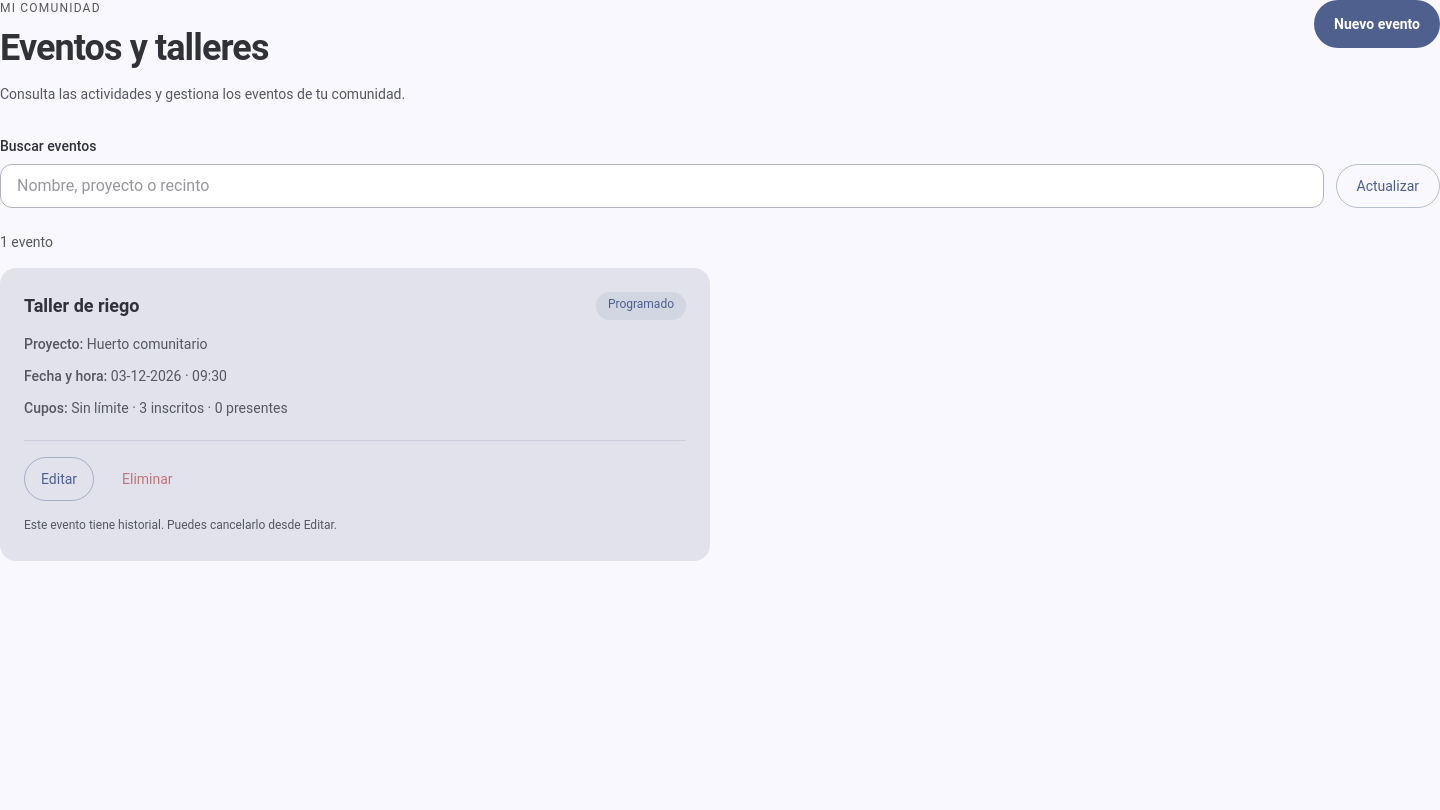
Test: gestión de eventos con HTTP y React Query › bloquea eliminación con historial y valida el cupo existente
The width and height of the screenshot is (1440, 810).
Expected: the button named "Eliminar Taller de riego" is disabled, [106,457,189,501]
Click the button named "Editar Taller de riego": (59, 479) [24,457,94,501]
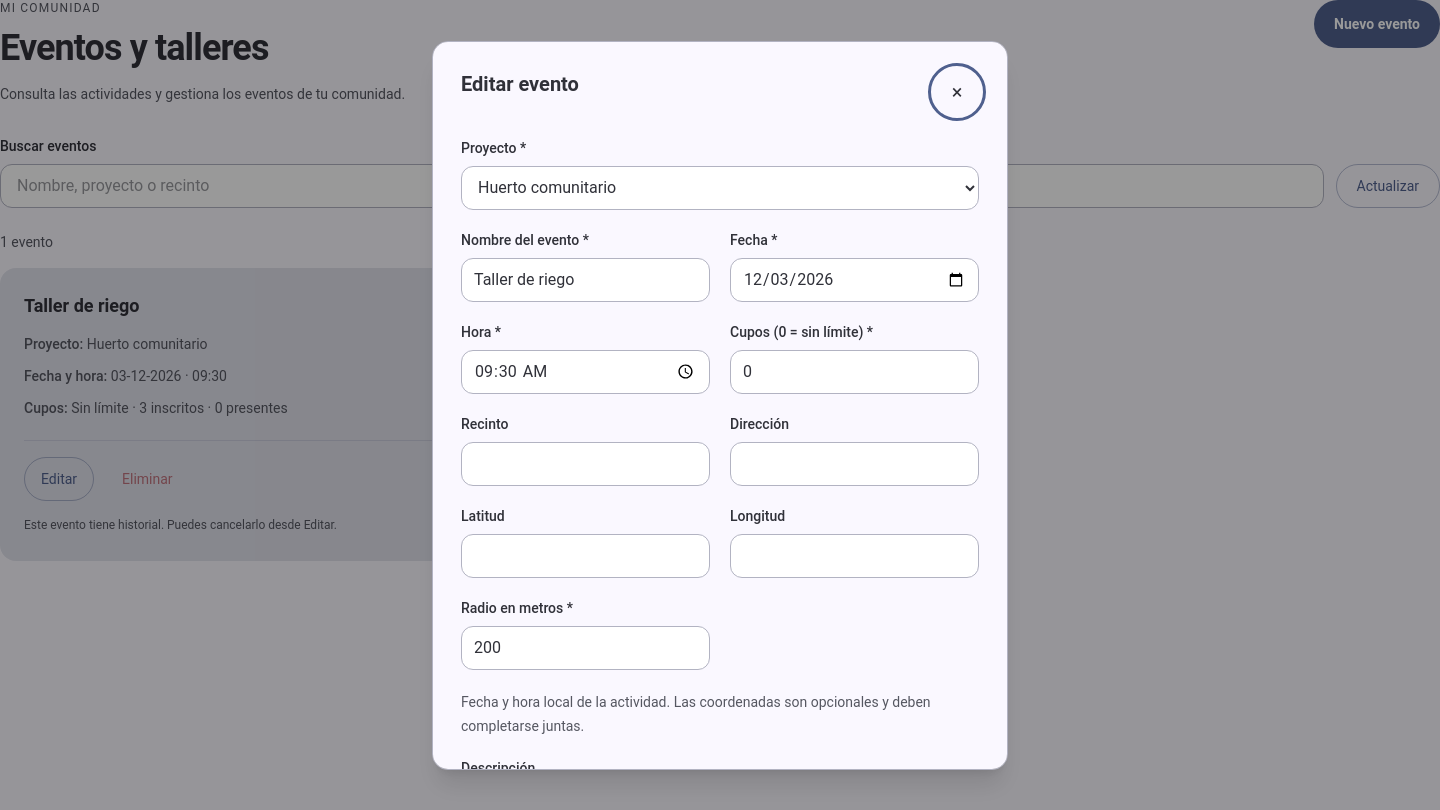
Replace the text in the number field labelled "Cupos (0 = sin límite) *" with "2": (854, 372) [730,350,979,394]
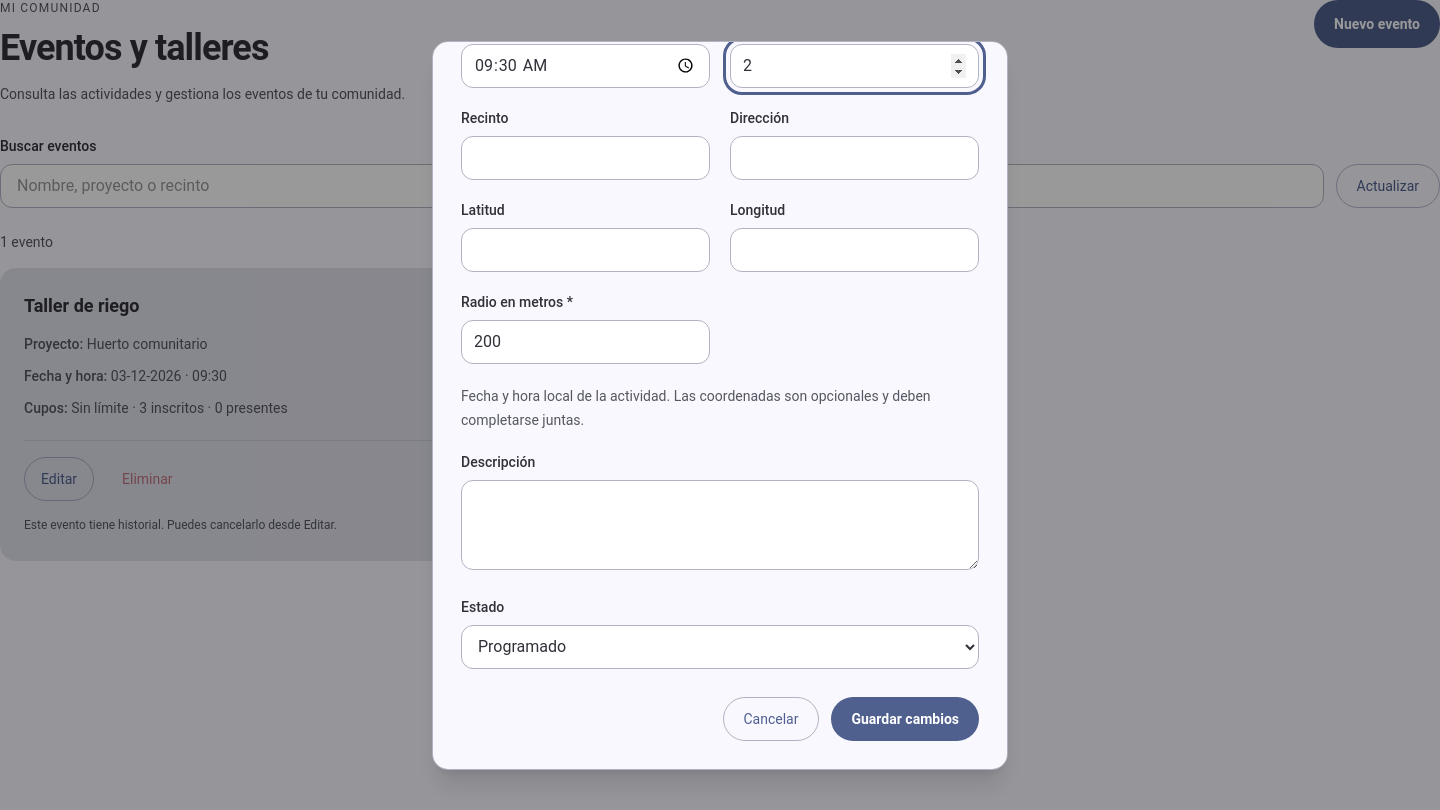
Click the button "Guardar cambios": (905, 718) [832,696,979,740]
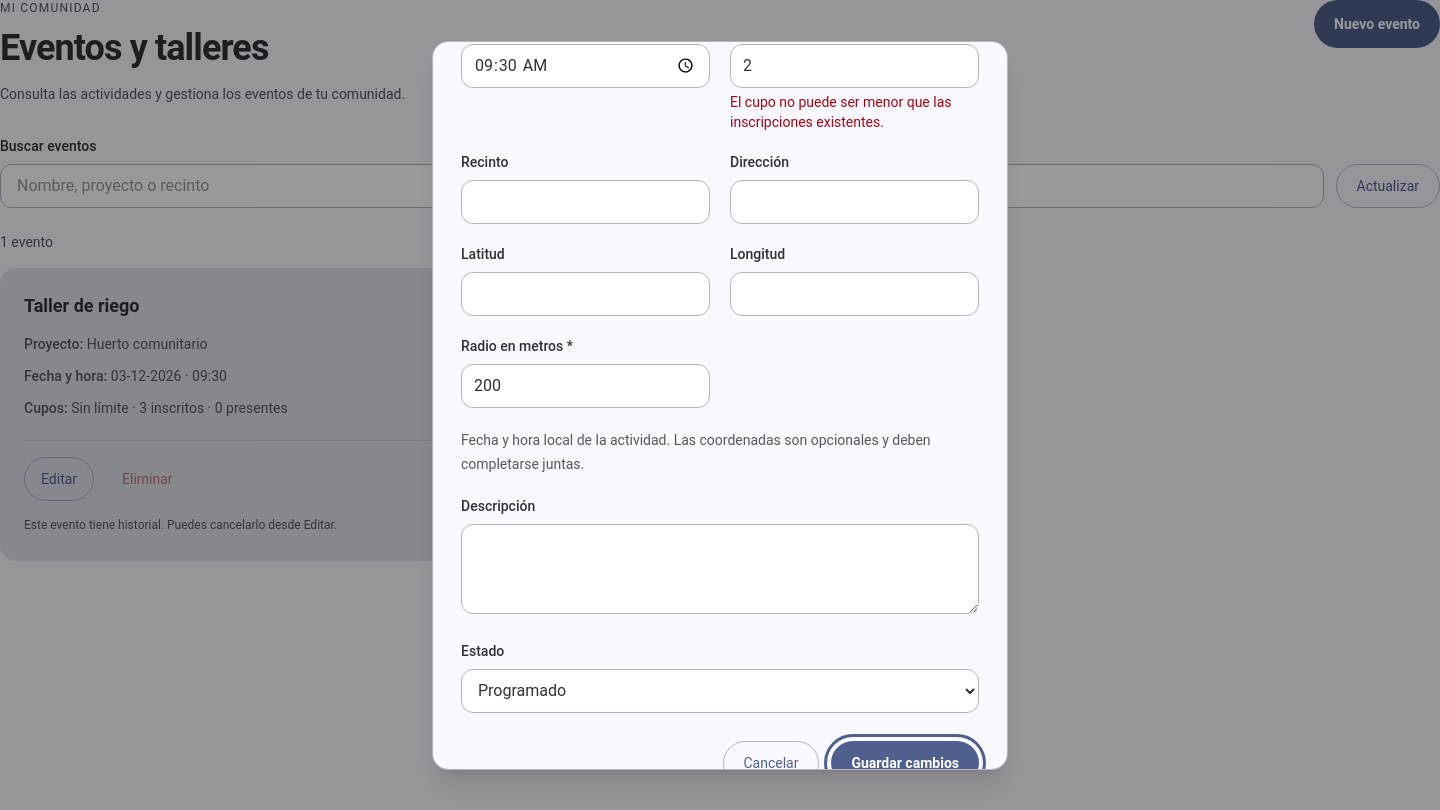
Result: the text "El cupo no puede ser menor que las inscripciones existentes." is shown at [730,92,979,132]
